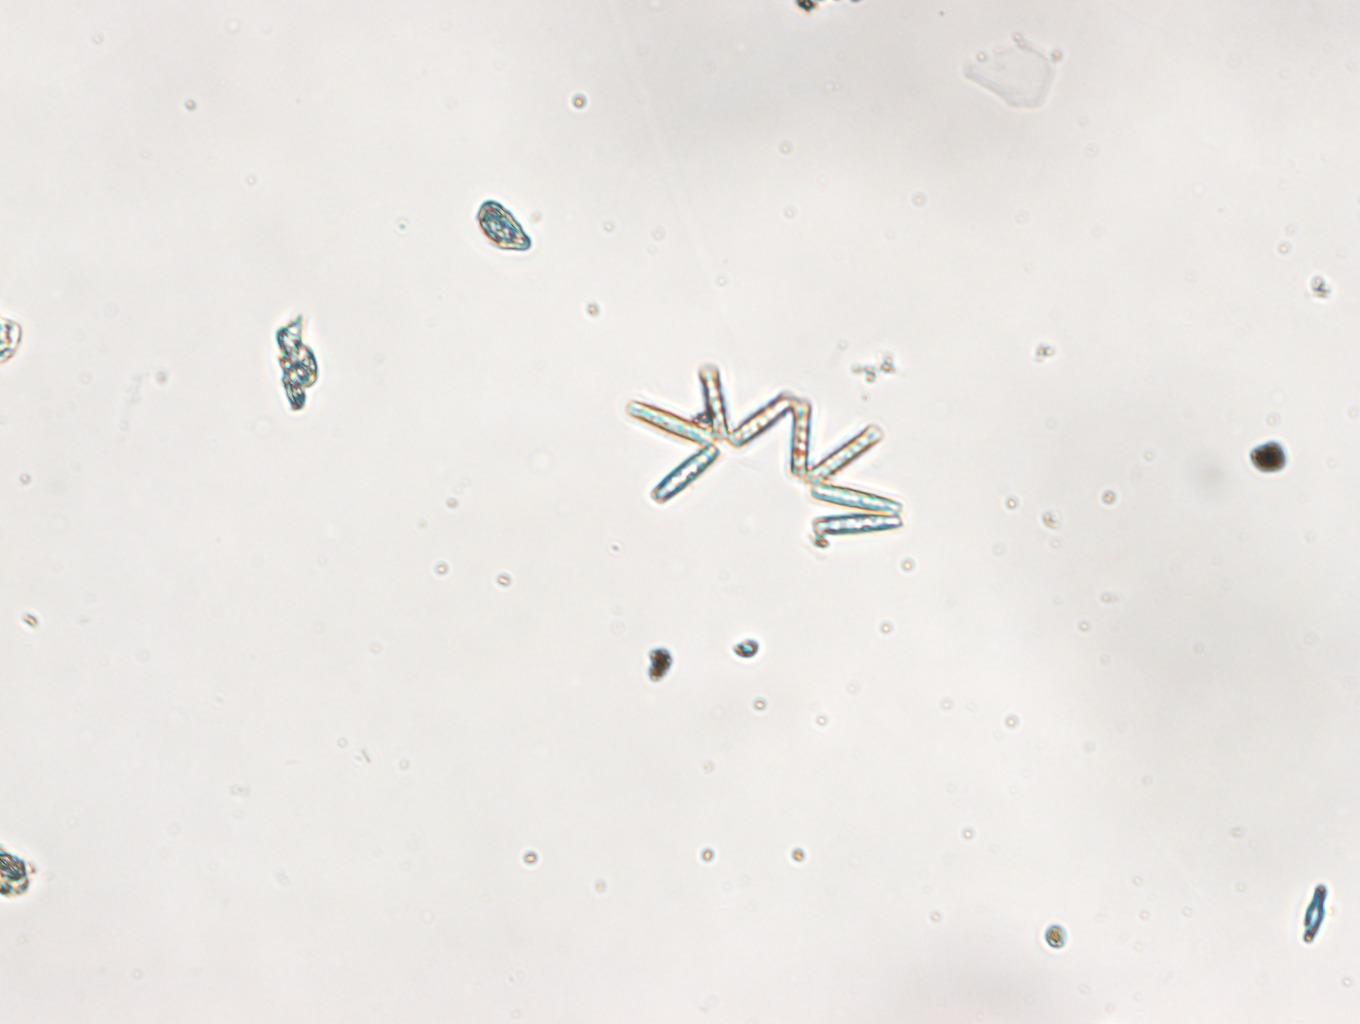thalassionema nitzschioides: (626, 362, 905, 538)
